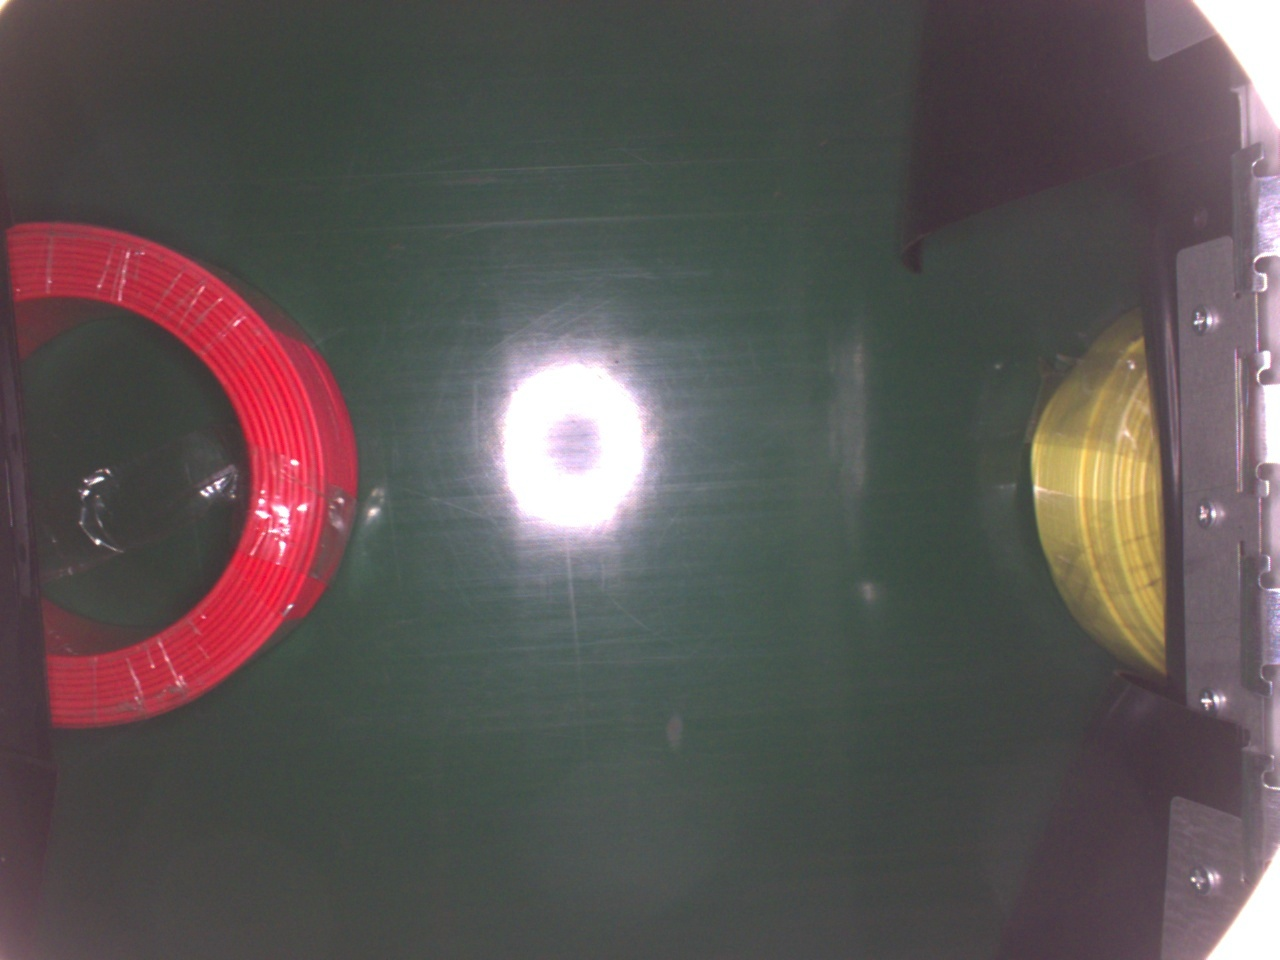red: (5, 222, 354, 737)
yellow: (1025, 307, 1167, 675)
